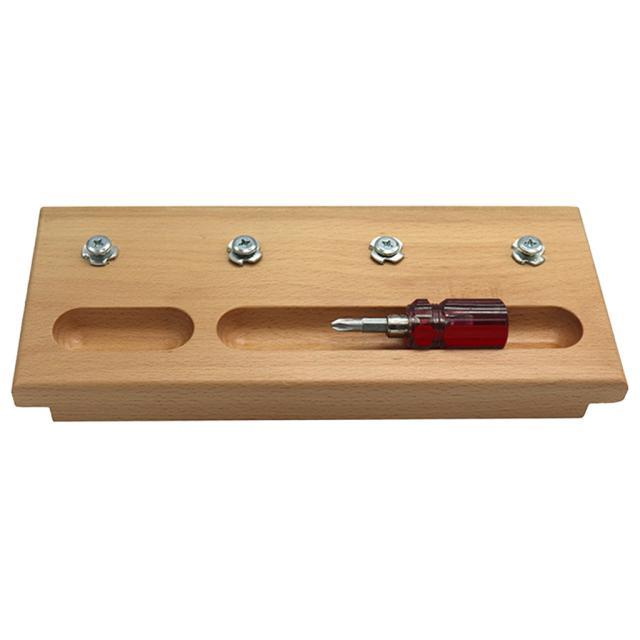screwdriver: (323, 292, 513, 354)
